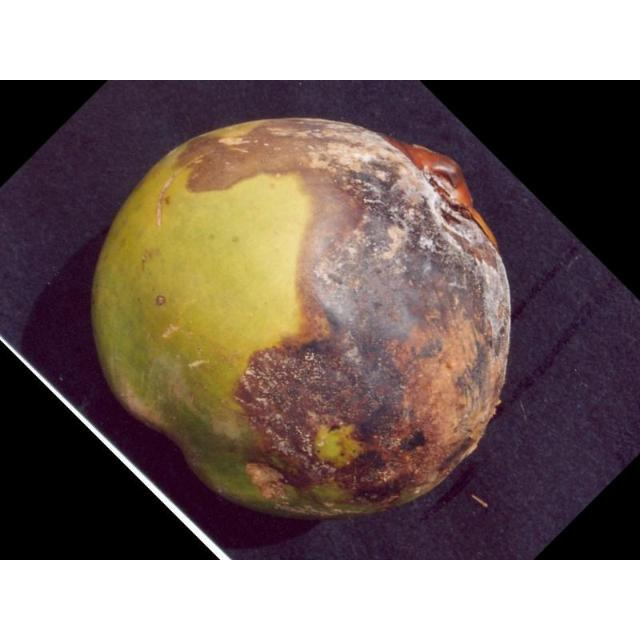damaged: (93, 118, 509, 517)
